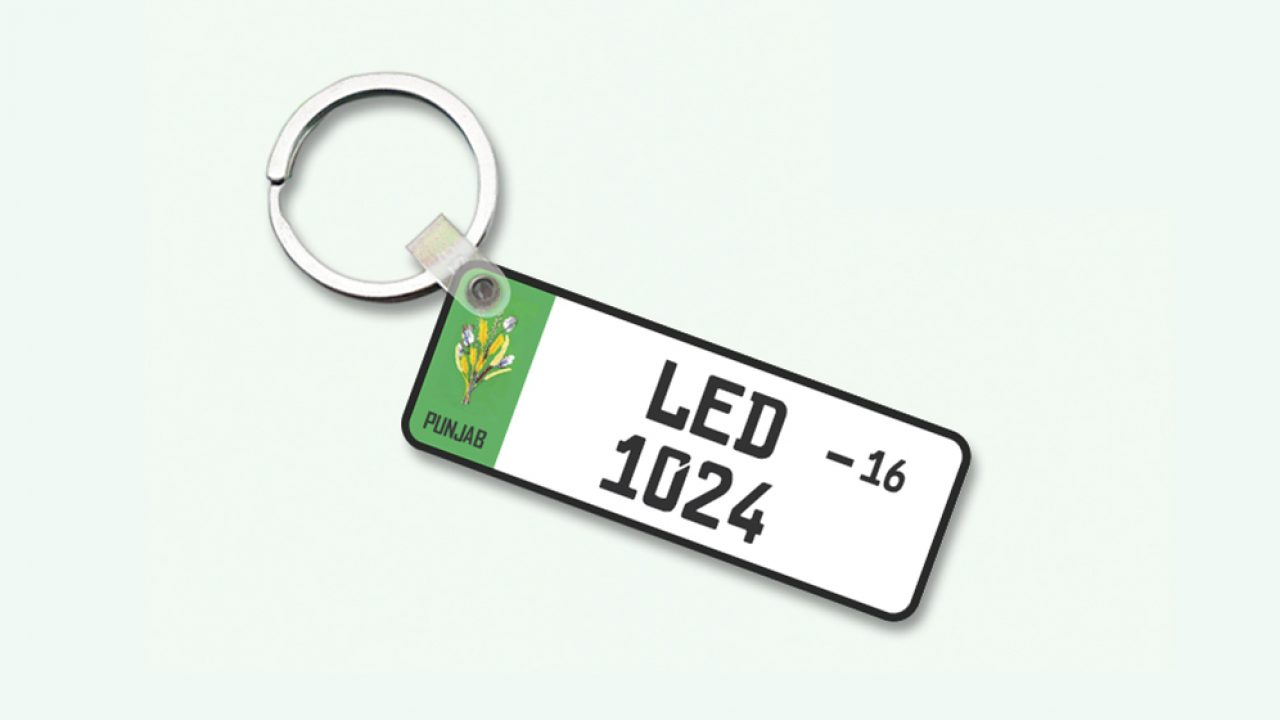plate: (398, 238, 976, 629)
